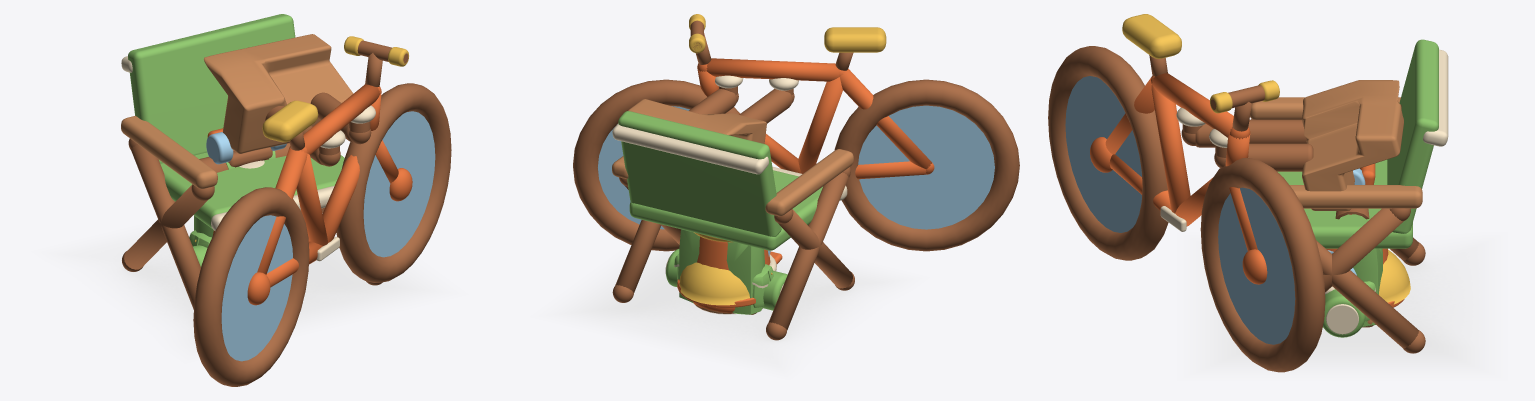
Rendered from interest_outdoor_v1.glb.
3 renders of one model, left to right at view 1: azimuth 30°, elevation 25°; view 2: azimuth 150°, elevation 25°; view 3: azimuth 270°, elevation 25°, orthographic. The views are drawn at different scales.
Visible parts, largest first — view 1: shadow_camp_chair, camp_chair_back, bike_rack_wall_tire_rear, bike_rack_wall_plate, bike_rack_wall_tire_front, bike_rack_wall_disc_front, bike_rack_wall_disc_rear, camp_chair_seat, camp_chair_leg_la, camp_chair_arm_l, bike_rack_wall, camp_chair_leg_lb (+15 smaller); view 2: shadow_camp_chair, camp_chair_back, bike_rack_wall_disc_rear, bike_rack_wall_tire_rear, bike_rack_wall_tire_front, camp_chair_seat, camp_chair_leg_lb, backpack_backpack, bike_rack_wall, camp_chair_back_band, bike_rack_wall_plate, bike_rack_wall_top (+12 smaller); view 3: shadow_camp_chair, bike_rack_wall_tire_front, bike_rack_wall_tire_rear, bike_rack_wall_plate, bike_rack_wall_disc_front, bike_rack_wall_disc_rear, camp_chair_back, bike_rack_wall, camp_chair_leg_rb, camp_chair_seat, camp_chair_arm_r, bike_rack_wall_seat (+18 smaller).
Boxes of the visible parts, x1=… form: shadow_camp_chair: x1=53, y1=219, x2=446, y2=354; camp_chair_back: x1=128, y1=14, x2=295, y2=163; bike_rack_wall_tire_rear: x1=193, y1=187, x2=309, y2=386; bike_rack_wall_plate: x1=204, y1=34, x2=353, y2=153; bike_rack_wall_tire_front: x1=336, y1=83, x2=451, y2=282; bike_rack_wall_disc_front: x1=363, y1=111, x2=435, y2=257; bike_rack_wall_disc_rear: x1=221, y1=215, x2=292, y2=361; camp_chair_seat: x1=160, y1=152, x2=344, y2=228; camp_chair_leg_la: x1=131, y1=144, x2=200, y2=309; camp_chair_arm_l: x1=121, y1=115, x2=217, y2=188; bike_rack_wall: x1=265, y1=92, x2=375, y2=166; camp_chair_leg_lb: x1=124, y1=184, x2=207, y2=269; shadow_camp_chair: x1=550, y1=247, x2=910, y2=371; camp_chair_back: x1=618, y1=111, x2=781, y2=236; bike_rack_wall_disc_rear: x1=858, y1=105, x2=994, y2=229; bike_rack_wall_tire_rear: x1=834, y1=79, x2=1019, y2=251; bike_rack_wall_tire_front: x1=573, y1=79, x2=739, y2=251; camp_chair_seat: x1=629, y1=170, x2=822, y2=250; camp_chair_leg_lb: x1=768, y1=172, x2=848, y2=330; backpack_backpack: x1=674, y1=229, x2=773, y2=314; bike_rack_wall: x1=689, y1=75, x2=798, y2=123; camp_chair_back_band: x1=612, y1=123, x2=768, y2=174; bike_rack_wall_plate: x1=628, y1=99, x2=766, y2=143; bike_rack_wall_top: x1=706, y1=58, x2=839, y2=81; shadow_camp_chair: x1=1193, y1=239, x2=1491, y2=373; bike_rack_wall_tire_front: x1=1200, y1=158, x2=1325, y2=372; bike_rack_wall_tire_rear: x1=1048, y1=46, x2=1168, y2=260; bike_rack_wall_plate: x1=1302, y1=80, x2=1403, y2=210; bike_rack_wall_disc_front: x1=1218, y1=187, x2=1295, y2=344; bike_rack_wall_disc_rear: x1=1065, y1=76, x2=1141, y2=232; camp_chair_back: x1=1387, y1=39, x2=1438, y2=233; bike_rack_wall: x1=1176, y1=107, x2=1313, y2=171; camp_chair_leg_rb: x1=1316, y1=240, x2=1418, y2=348; camp_chair_seat: x1=1277, y1=159, x2=1412, y2=248; camp_chair_arm_r: x1=1289, y1=185, x2=1422, y2=208; bike_rack_wall_seat: x1=1151, y1=85, x2=1190, y2=213.
Bounding box in the file's own units: 0.8831 × 0.5593 × 0.9106.
8 materials, 1 textured.
